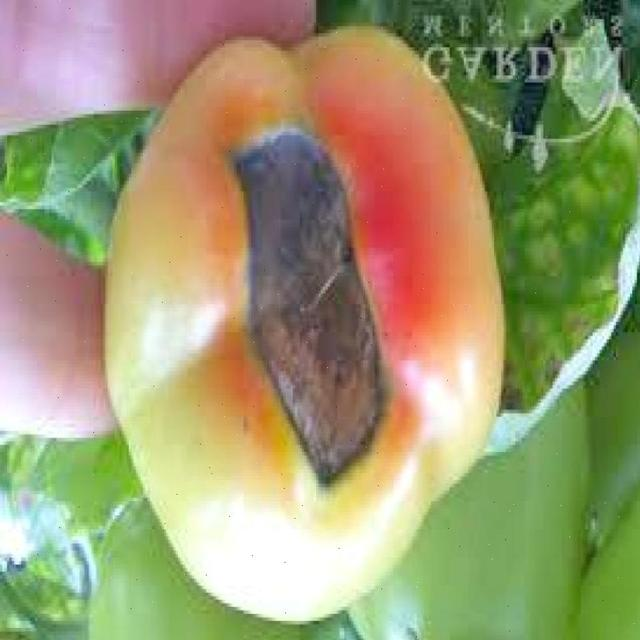Blossom End Rot Fruit: (150, 78, 255, 333)
